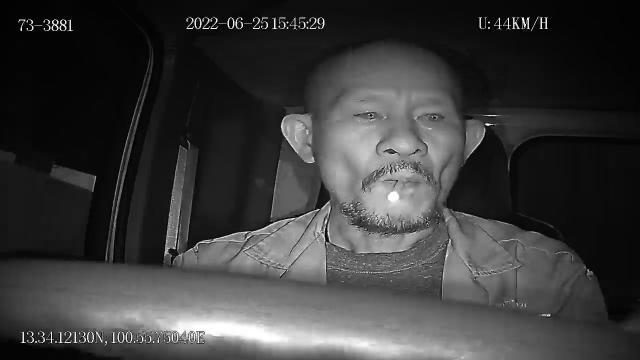SafeDriving: (346, 98, 392, 128), (408, 99, 452, 130)
Smoking: (390, 177, 406, 201)
